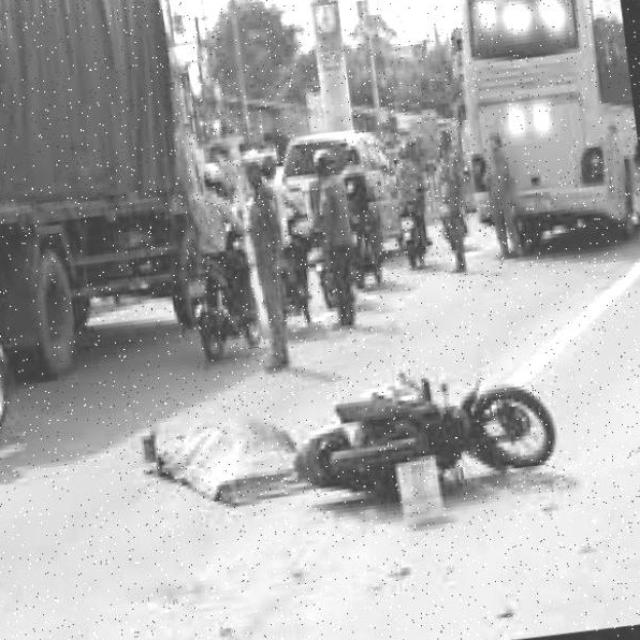accident: (274, 316, 586, 560)
